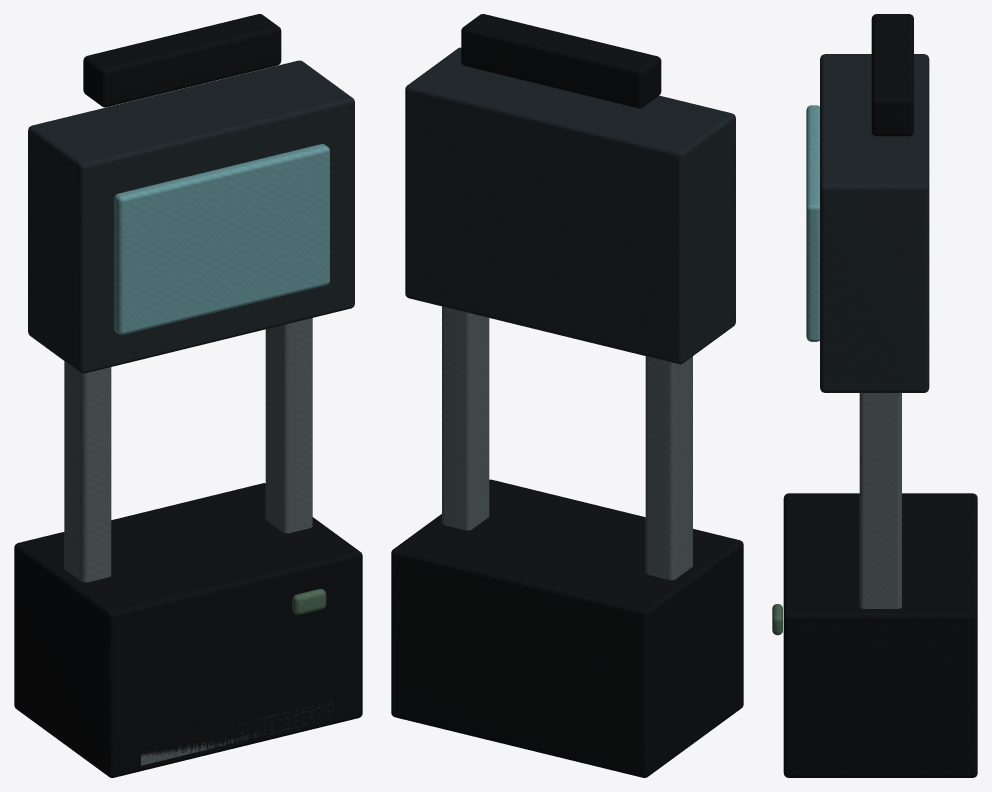
Rendered from PortableWorkLight.fbx.
3 renders of one model, left to right at view 1: azimuth 30°, elevation 25°; view 2: azimuth 150°, elevation 25°; view 3: azimuth 270°, elevation 25°, orthographic. The views are drawn at different scales.
Visible parts, largest first — view 1: PortableWorkLight_Mesh; view 2: PortableWorkLight_Mesh; view 3: PortableWorkLight_Mesh.
Boxes of the visible parts, box(x1,y1,x2,y2) form: PortableWorkLight_Mesh: box(14, 14, 362, 777); PortableWorkLight_Mesh: box(391, 14, 743, 777); PortableWorkLight_Mesh: box(772, 14, 977, 777).
Size of the model in its own units: 52 by 120 by 33.9.
5 materials, 5 textured.
